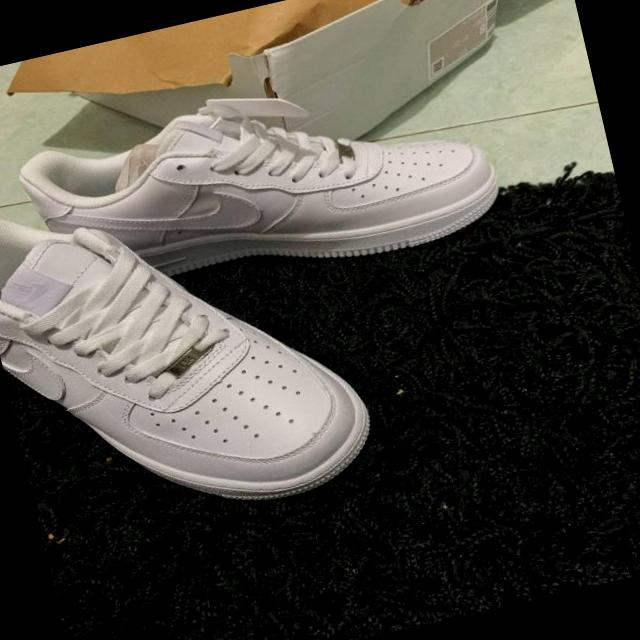nike_original_airforce: (0, 130, 390, 553), (11, 41, 512, 327)
